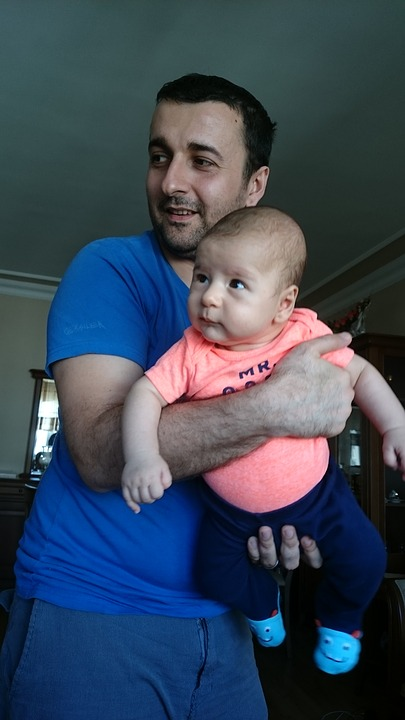person: (81, 91, 289, 299)
